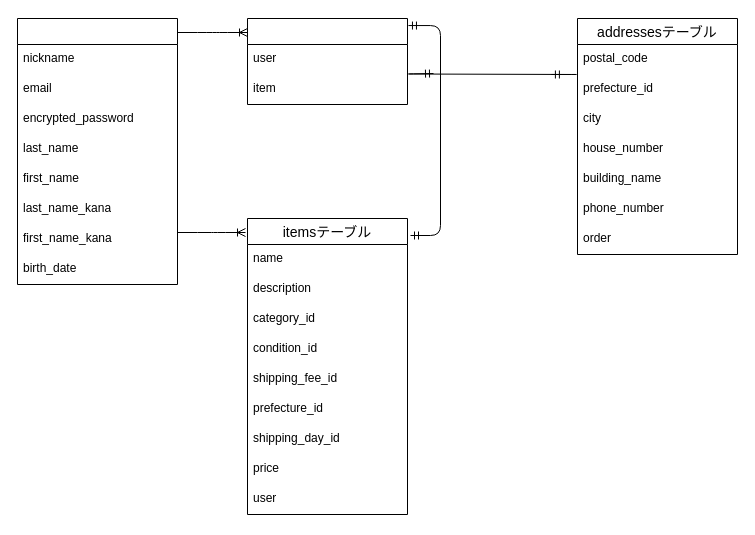
The diagram is 755 pixels wide and 535 high, and some of its shapes have lost their labels. Each missing label, with the box of its shape:
ordersテーブル: (246, 18, 408, 104)
usersテーブル: (16, 18, 178, 284)
